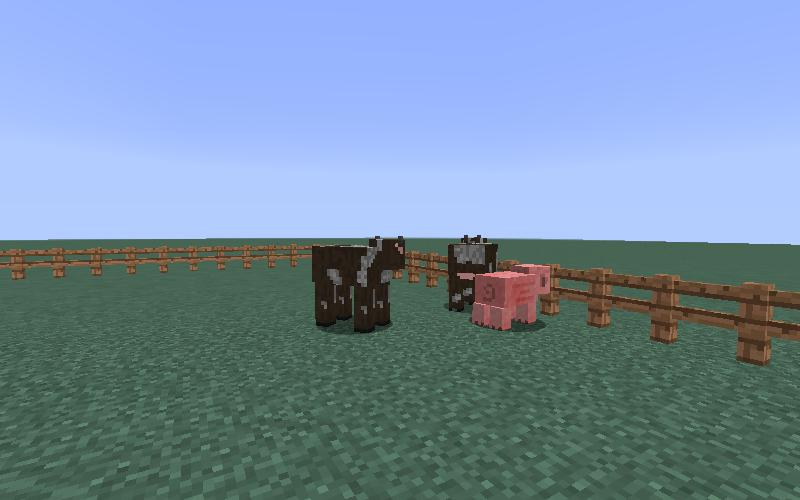cow: (311, 235, 408, 335), (447, 234, 499, 311)
pig: (469, 263, 552, 335)
